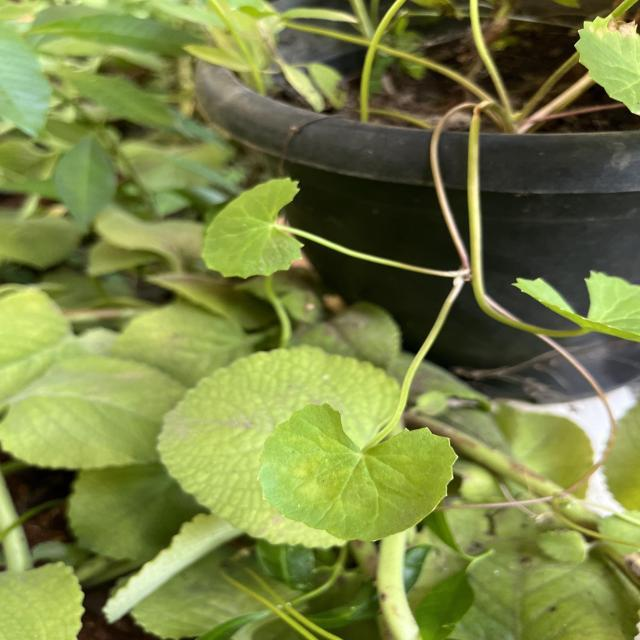Centella asiatica: (254, 398, 461, 544)
